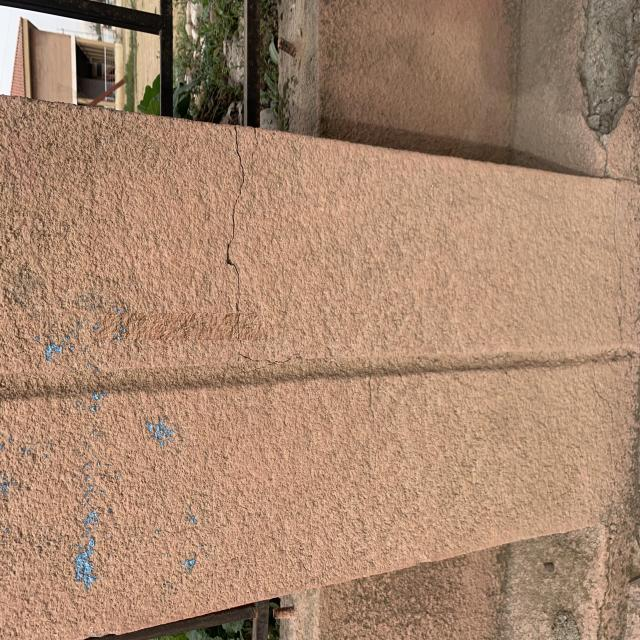vertical crack: (177, 127, 267, 368)
